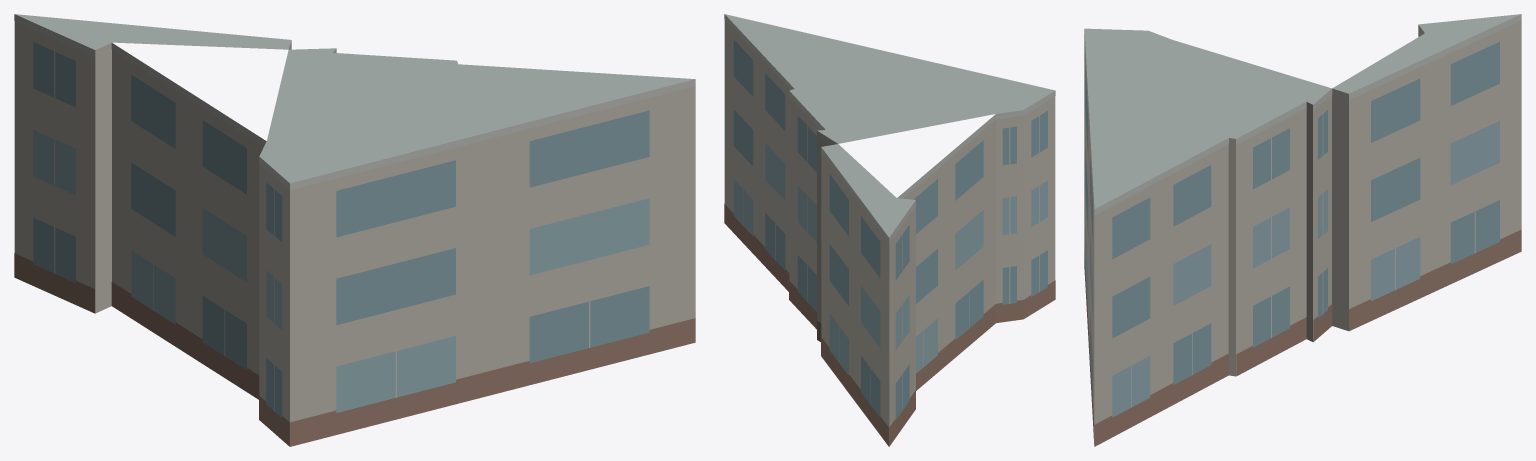
The model's file is survey-upis-32481564.glb.
3 renders of one model, left to right at view 1: azimuth 30°, elevation 25°; view 2: azimuth 150°, elevation 25°; view 3: azimuth 270°, elevation 25°, orthographic. The views are drawn at different scales.
Parts seen in each view (by area): view 1: survey-upis-32481564.tmp; view 2: survey-upis-32481564.tmp; view 3: survey-upis-32481564.tmp.
Part boxes in pixels (x1,y1,x2,y2): survey-upis-32481564.tmp: (14, 14, 695, 446); survey-upis-32481564.tmp: (724, 14, 1055, 446); survey-upis-32481564.tmp: (1084, 14, 1521, 446).
Size of the model in its own units: 16.41 by 9.3 by 15.52.
